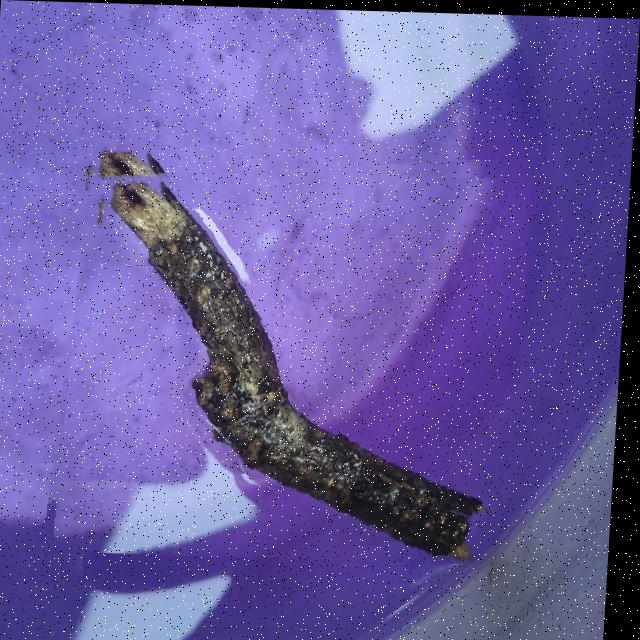litter: (56, 142, 533, 562)
